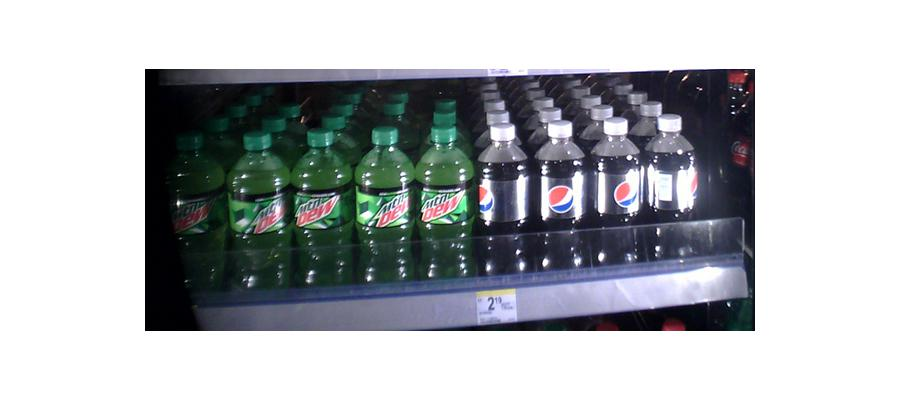bottle: (229, 130, 291, 294), (416, 106, 473, 282), (292, 130, 353, 290), (354, 125, 414, 287), (167, 134, 224, 295), (479, 118, 531, 277), (643, 112, 699, 256), (534, 115, 586, 269), (589, 115, 639, 266)
